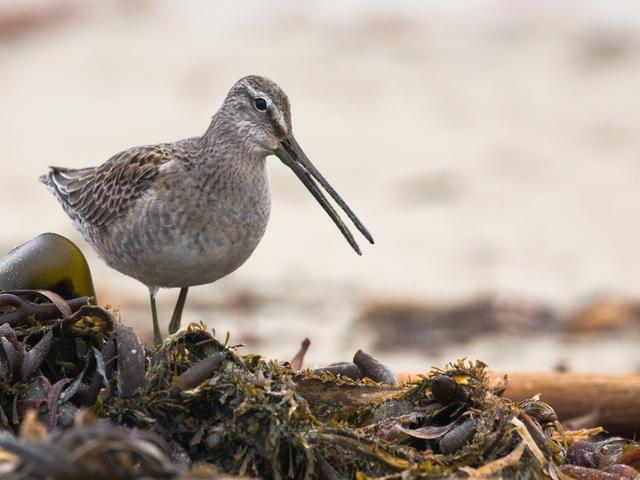bird: (9, 44, 398, 353)
